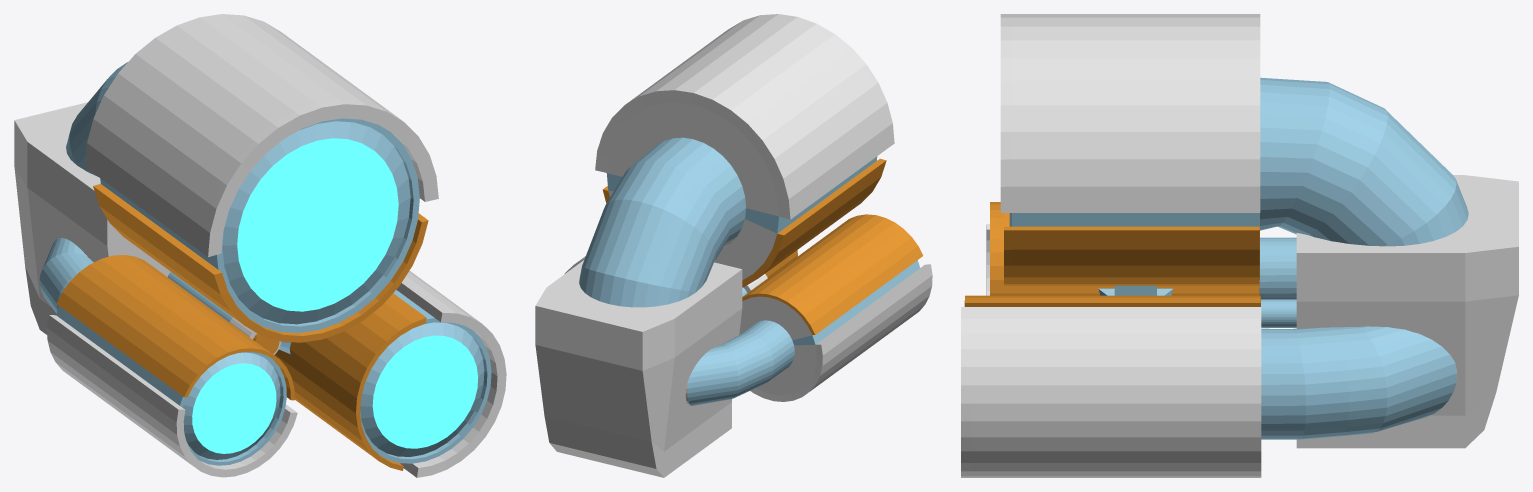
File: eyes3.glb
3 views of the same model, side by side, from view 1: azimuth 30°, elevation 25°; view 2: azimuth 150°, elevation 25°; view 3: azimuth 270°, elevation 25° (orthographic). The views are drawn at different scales.
Visible parts, largest first — view 1: eyes3; view 2: eyes3; view 3: eyes3.
Part boxes in pixels (x1=…): eyes3: x1=14, y1=14, x2=506, y2=477; eyes3: x1=535, y1=14, x2=932, y2=477; eyes3: x1=961, y1=14, x2=1518, y2=477.
Size of the model in its own units: 0.979 by 1.11 by 1.41.
